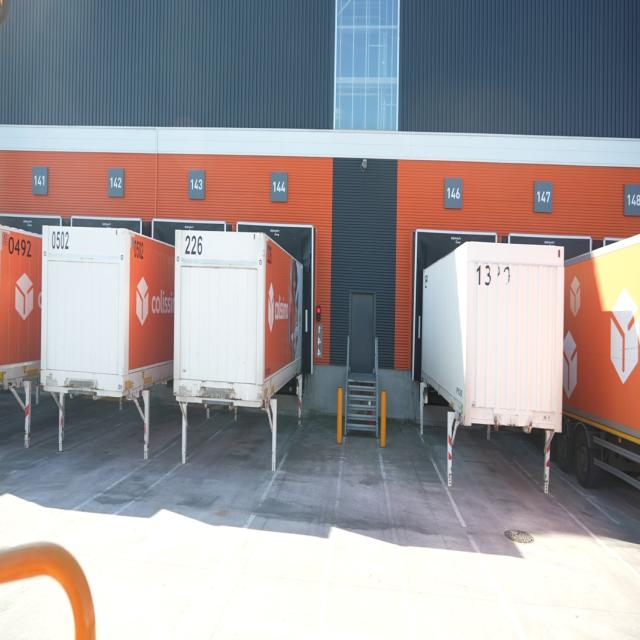Code: (178, 234, 208, 258), (6, 232, 32, 259), (48, 229, 74, 251), (129, 236, 148, 263)
